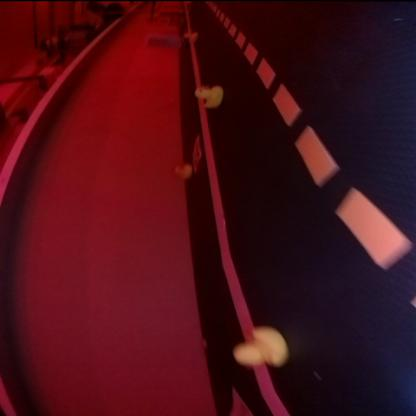Duckie: (233, 326, 285, 366), (194, 86, 221, 108), (176, 164, 190, 178), (186, 31, 198, 41)
QR code: (193, 139, 200, 168)
